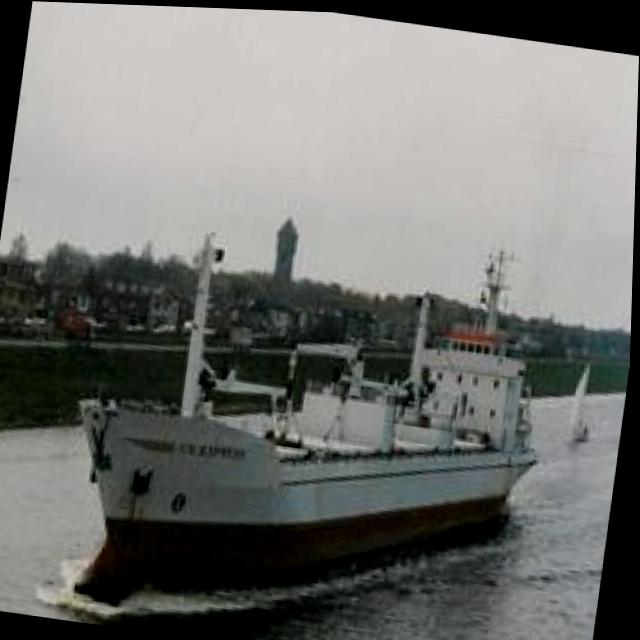ship2: (76, 227, 540, 605)
